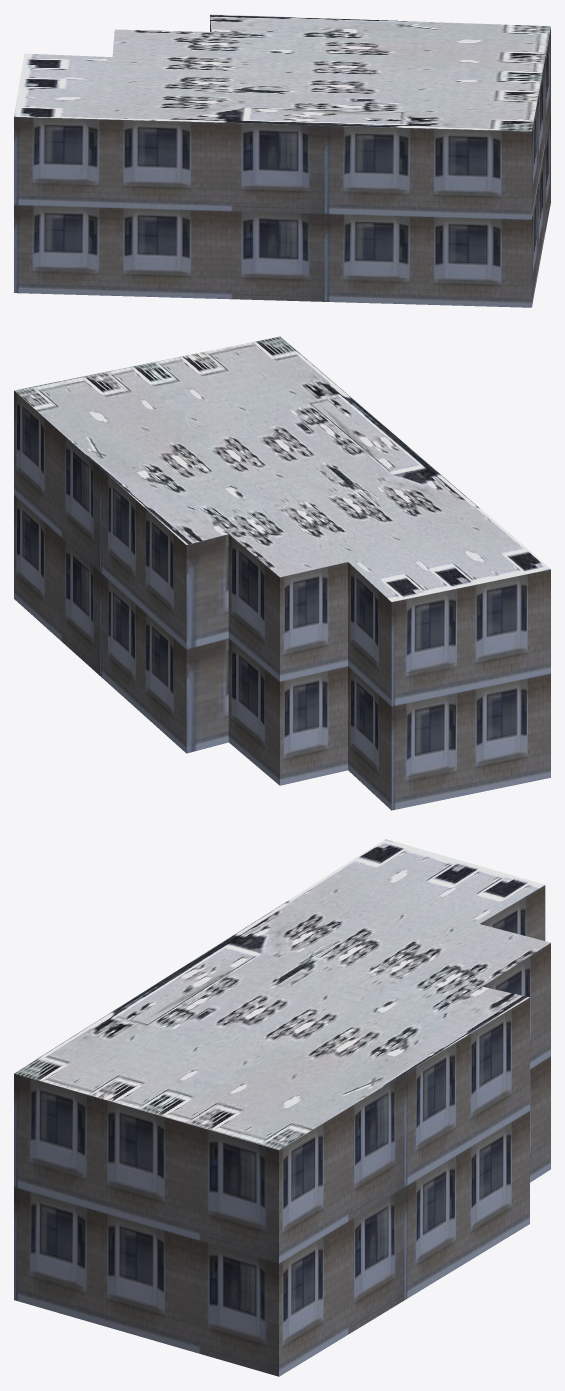
The model's file is ResTex__2432.fbx.
3 views of the same model, one above another, from view 1: azimuth 30°, elevation 25°; view 2: azimuth 150°, elevation 25°; view 3: azimuth 270°, elevation 25° (orthographic). The views are drawn at different scales.
Parts seen in each view (by area): view 1: CityEngineMaterial_3_m, CityEngineMaterial_m; view 2: CityEngineMaterial_3_m, CityEngineMaterial_m; view 3: CityEngineMaterial_3_m, CityEngineMaterial_m.
Boxes of the visible parts, x1,y1,x2,y2 form: CityEngineMaterial_3_m: (14, 16, 550, 307); CityEngineMaterial_m: (14, 14, 550, 131); CityEngineMaterial_3_m: (14, 391, 550, 810); CityEngineMaterial_m: (14, 336, 550, 601); CityEngineMaterial_3_m: (14, 885, 550, 1376); CityEngineMaterial_m: (14, 839, 550, 1149).
Size of the model in its own units: 17.65 by 6 by 12.88.
Materials: 2 (2 with a texture image).
